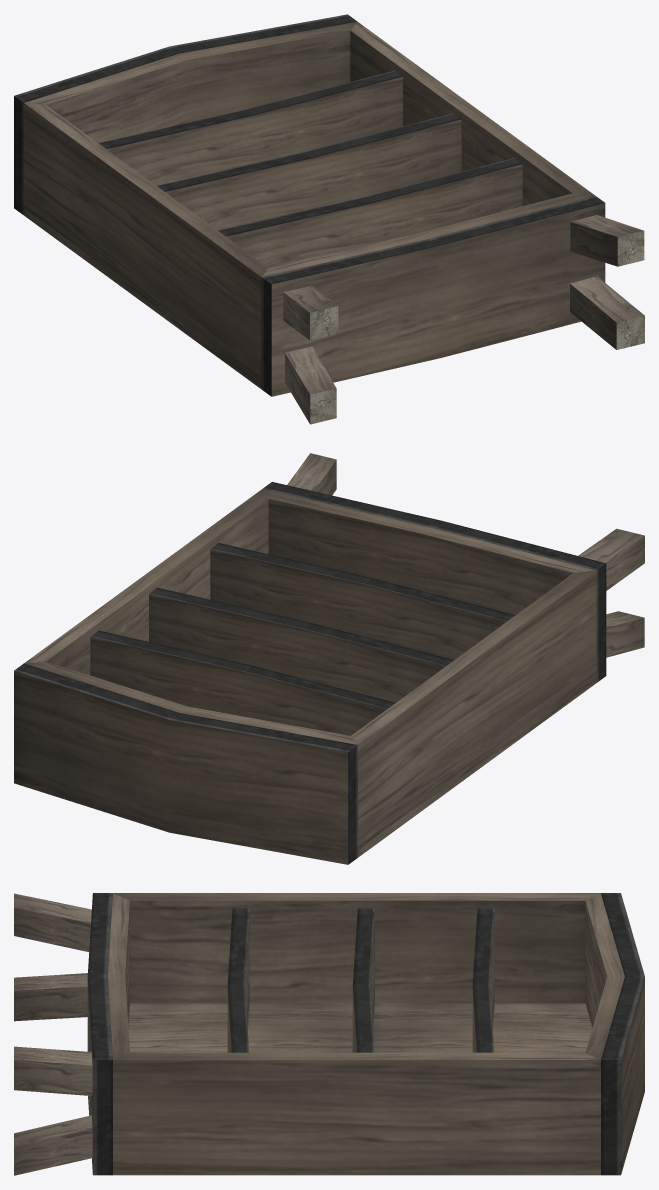
Rendered from Bookcase.fbx.
The picture shows the model from 3 angles, top to bottom: view 1: azimuth 30°, elevation 25°; view 2: azimuth 150°, elevation 25°; view 3: azimuth 270°, elevation 25°; orthographic projection. The views are drawn at different scales.
Parts seen in each view (by area): view 1: Bookcase; view 2: Bookcase; view 3: Bookcase.
Part boxes in pixels (x1,y1,x2,y2): Bookcase: (14, 14, 644, 424); Bookcase: (14, 453, 644, 864); Bookcase: (14, 893, 644, 1175).
Bounding box in the file's own units: 2.06 × 0.6641 × 3.28.
